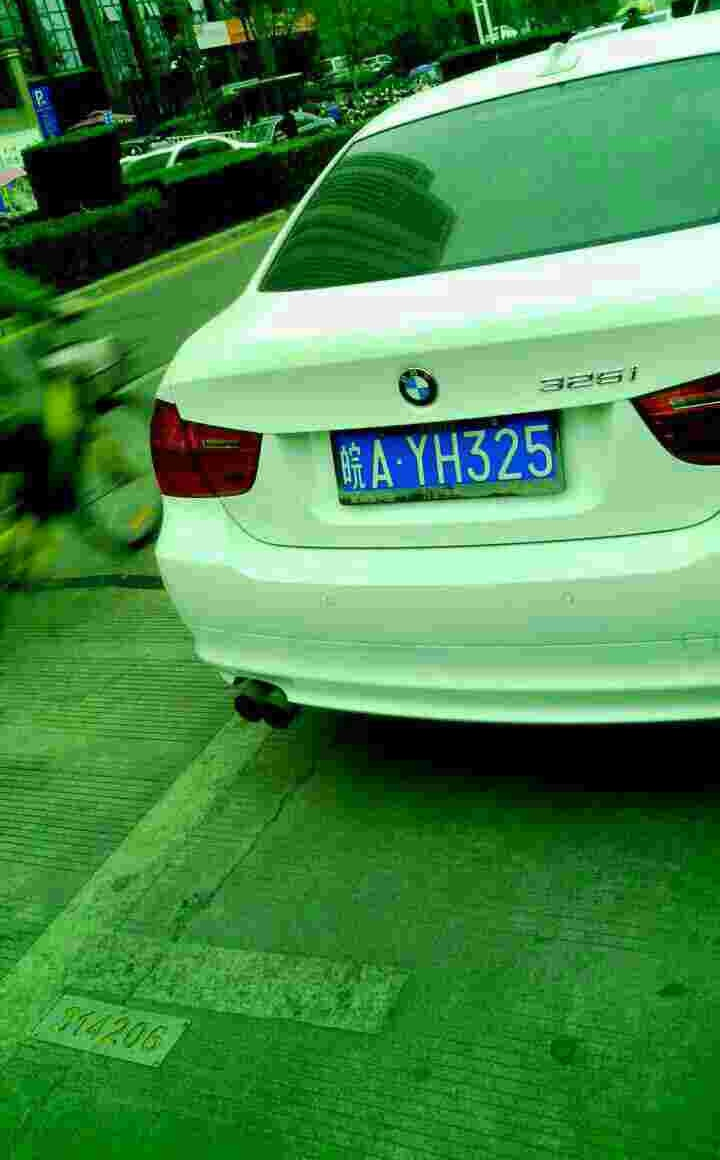plate: (330, 407, 564, 508)
